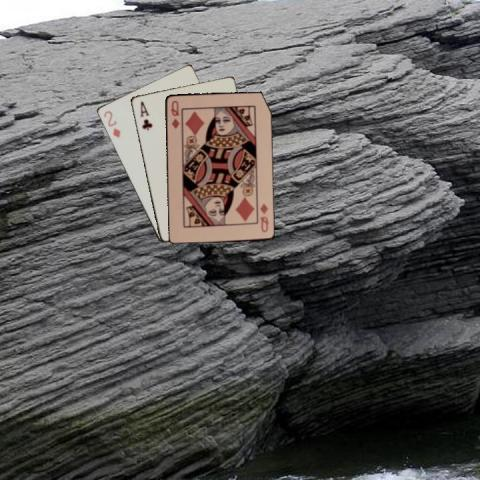2d: (101, 107, 121, 139)
Ac: (137, 98, 153, 132)
Qd: (167, 97, 181, 130), (257, 200, 270, 233)
